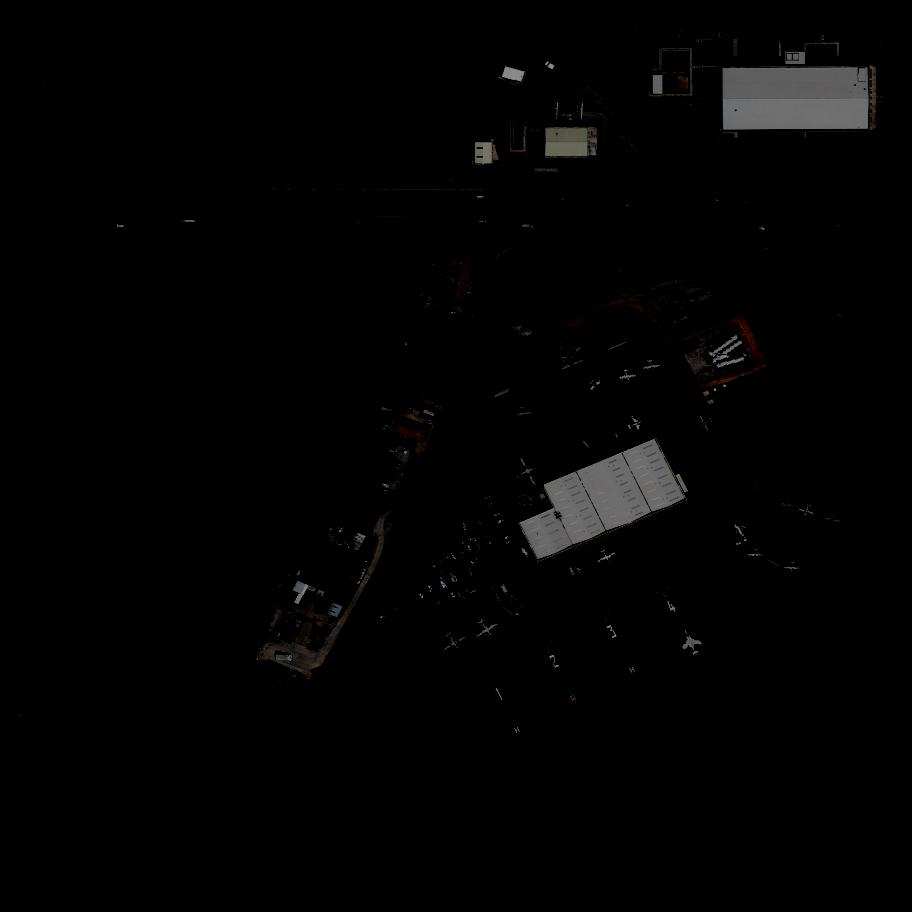large-vehicle: (713, 339, 745, 364), (710, 334, 742, 357), (716, 357, 747, 371), (314, 600, 326, 615), (714, 356, 730, 366), (574, 563, 584, 575), (521, 547, 531, 558), (276, 655, 292, 660), (569, 566, 576, 577), (534, 603, 542, 612), (182, 219, 196, 223), (460, 590, 467, 597), (469, 561, 475, 568), (520, 225, 531, 228), (477, 197, 486, 199)
plane: (502, 450, 544, 496), (467, 611, 506, 646), (436, 625, 474, 660), (676, 625, 709, 661), (695, 411, 718, 435), (577, 436, 599, 459), (596, 547, 620, 567), (625, 413, 645, 436), (764, 553, 784, 570), (800, 503, 819, 520), (734, 521, 751, 540), (618, 368, 637, 384), (826, 512, 844, 527), (516, 407, 535, 421), (643, 359, 662, 373), (610, 432, 626, 448), (586, 379, 603, 394), (780, 498, 798, 512), (785, 560, 802, 573), (747, 549, 764, 560)
small-vehicle: (486, 501, 496, 509), (416, 591, 424, 599), (455, 518, 463, 526), (406, 405, 413, 414), (437, 557, 445, 564), (462, 539, 469, 547), (441, 580, 448, 588), (472, 518, 479, 526), (337, 527, 344, 535), (485, 495, 493, 502), (451, 527, 458, 535), (457, 591, 464, 599), (516, 611, 524, 618), (495, 516, 503, 523), (398, 461, 404, 470), (470, 224, 479, 230), (758, 226, 767, 232), (624, 202, 633, 208), (444, 554, 451, 561), (450, 552, 457, 559), (448, 570, 455, 577), (454, 575, 461, 582), (475, 516, 482, 523), (383, 482, 390, 489), (464, 496, 471, 503), (471, 559, 478, 566), (392, 461, 399, 468), (504, 531, 511, 538), (445, 547, 451, 555), (427, 585, 433, 593), (475, 557, 481, 565), (450, 593, 456, 601), (431, 560, 437, 567), (476, 533, 482, 540), (483, 531, 489, 538), (487, 537, 493, 544), (424, 588, 430, 595), (466, 563, 472, 570), (344, 530, 350, 537), (350, 218, 357, 224), (384, 479, 391, 485), (491, 507, 498, 513), (507, 540, 514, 546), (430, 601, 436, 608), (498, 519, 505, 525), (389, 448, 397, 453), (390, 445, 398, 450), (505, 537, 513, 542), (472, 534, 478, 540), (480, 540, 486, 546), (448, 578, 454, 584), (396, 440, 402, 446), (377, 491, 384, 496), (462, 547, 467, 554), (469, 544, 474, 551), (469, 521, 474, 528), (322, 196, 329, 201), (425, 424, 432, 429), (477, 566, 482, 573), (465, 587, 470, 594), (104, 195, 111, 200), (117, 224, 125, 228), (788, 204, 796, 208), (743, 202, 751, 206), (469, 536, 474, 542), (476, 541, 481, 547), (483, 538, 488, 544), (441, 573, 446, 579), (402, 445, 407, 451), (469, 568, 474, 574), (463, 572, 467, 579), (381, 488, 388, 492), (598, 136, 602, 143), (480, 564, 484, 571), (435, 584, 440, 589), (436, 600, 441, 605), (466, 571, 470, 577), (478, 219, 484, 223), (240, 201, 247, 204), (463, 523, 467, 528), (495, 514, 500, 518), (432, 220, 440, 222), (834, 226, 842, 228), (402, 474, 405, 479), (499, 524, 504, 527), (562, 198, 567, 201), (714, 198, 721, 200), (453, 576, 455, 582), (111, 218, 117, 220), (389, 221, 395, 223), (502, 526, 506, 529), (502, 531, 507, 533)
